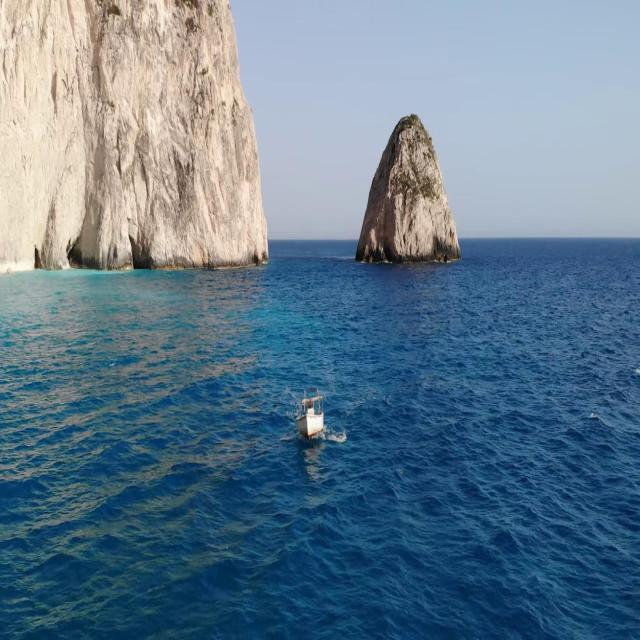boat: (288, 382, 336, 454)
